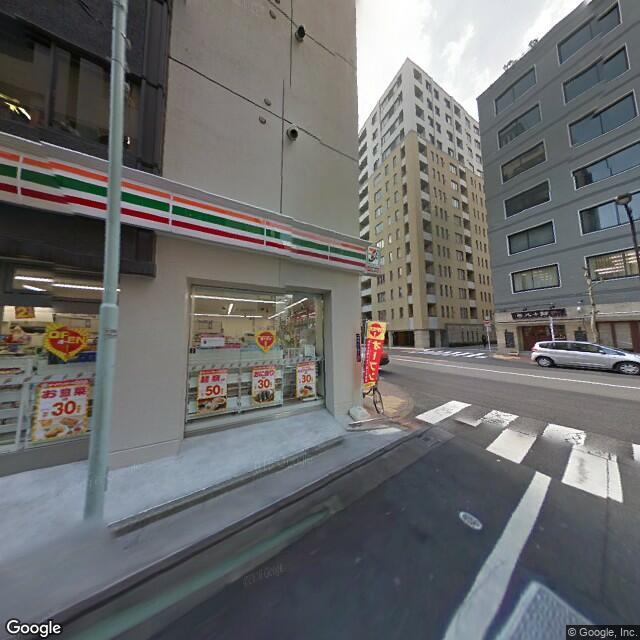7-eleven: (1, 143, 363, 286), (363, 242, 380, 266)
